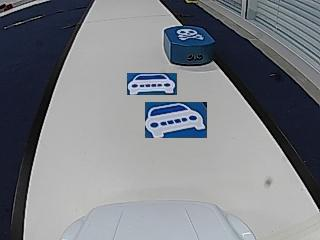danger: (176, 27, 202, 40)
